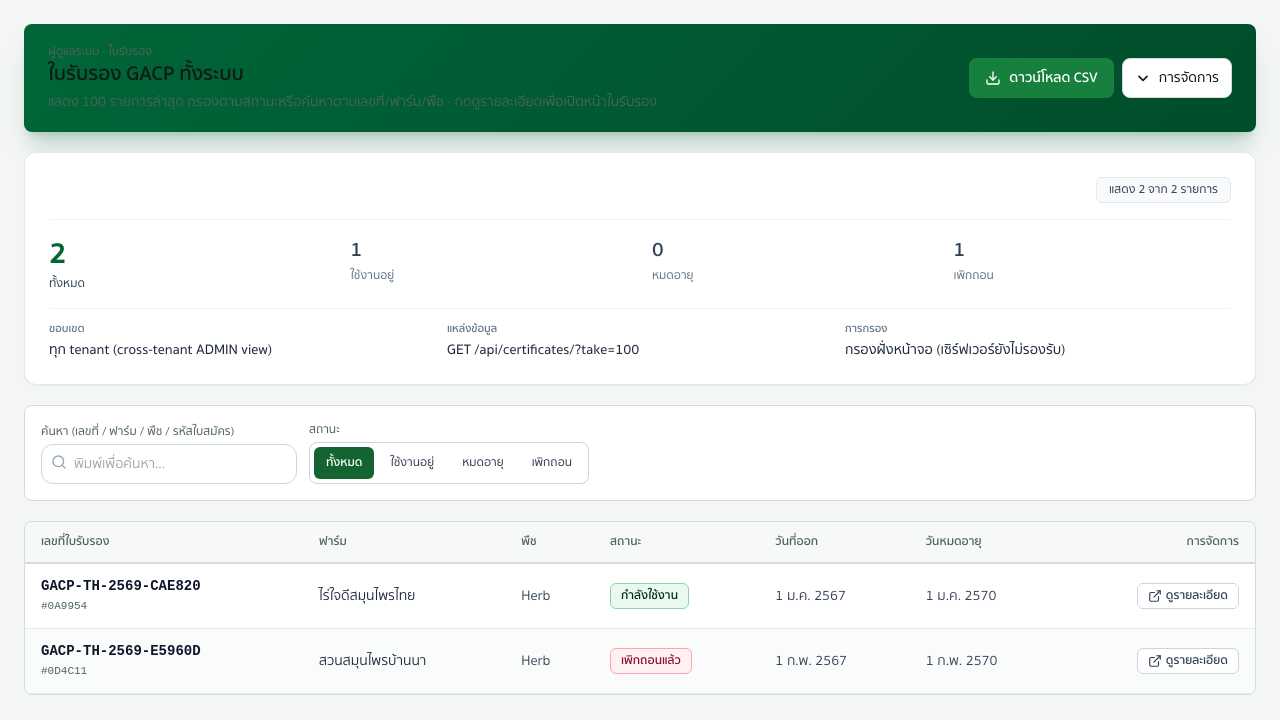
Test: /admin/certificates — row status chip, filter and counter › (c) pressing the เพิกถอน filter narrows the roster to the revoked row and marks the button pressed
Expected: the button "ทั้งหมด" is shown, x1=314 y1=446 x2=374 y2=478
Click the button "เพิกถอน" at (552, 462), box x1=520 y1=446 x2=584 y2=478
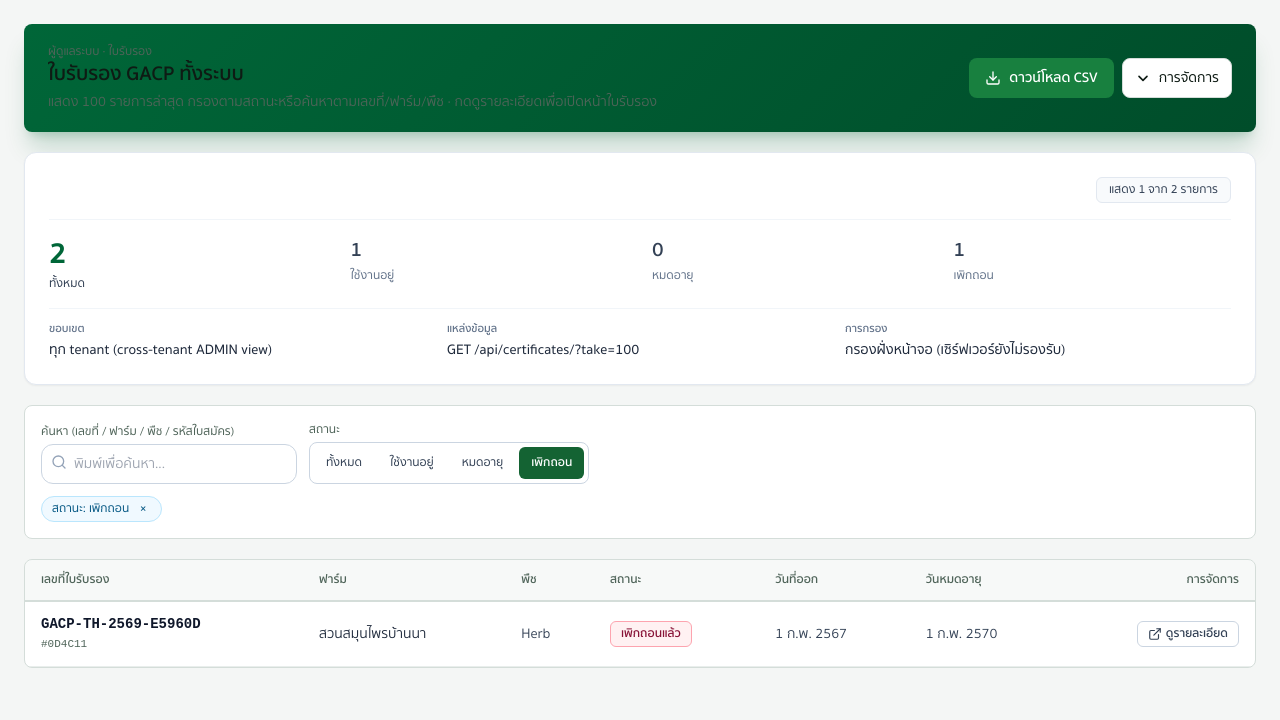
Now the text "สถานะ: เพิกถอน" is shown, box x1=52 y1=498 x2=129 y2=518
Now the text "แสดง 1 จาก 2 รายการ" is shown, box x1=1096 y1=177 x2=1231 y2=203
